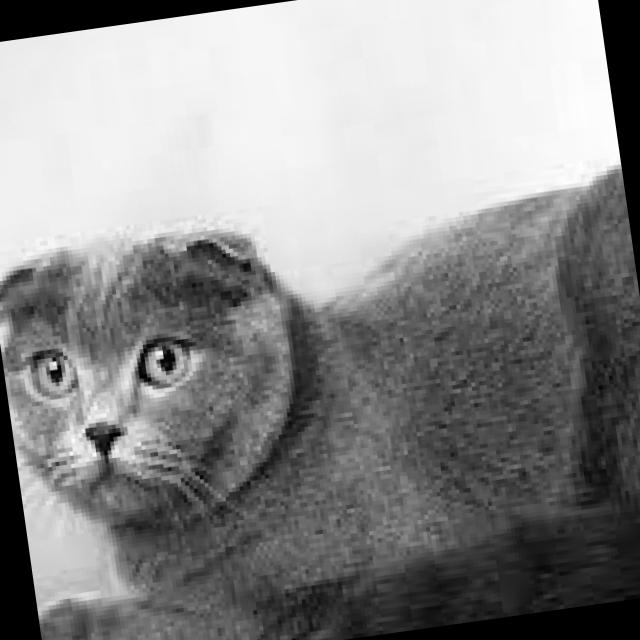scootish: (0, 200, 315, 545)
